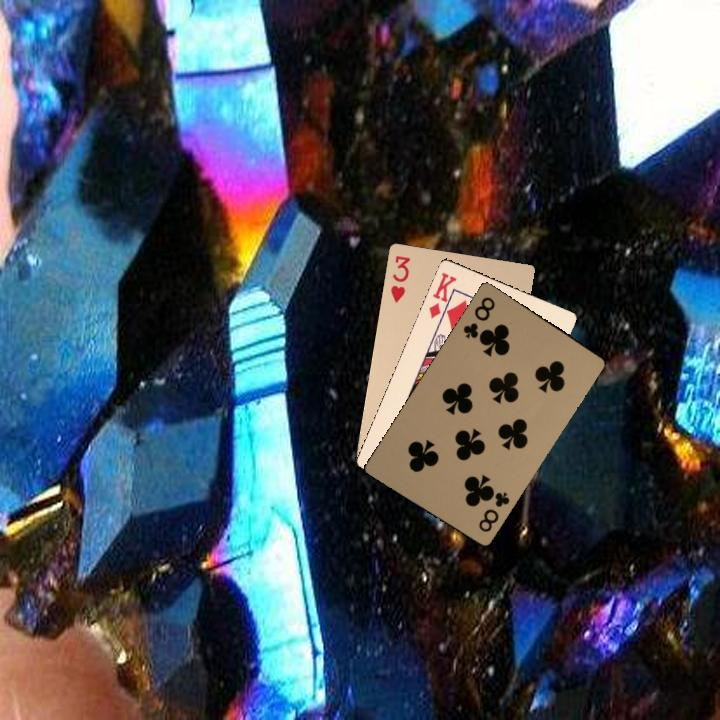3h: (387, 251, 413, 305)
8c: (474, 485, 512, 535), (459, 293, 498, 341)
Kd: (425, 268, 460, 323)
